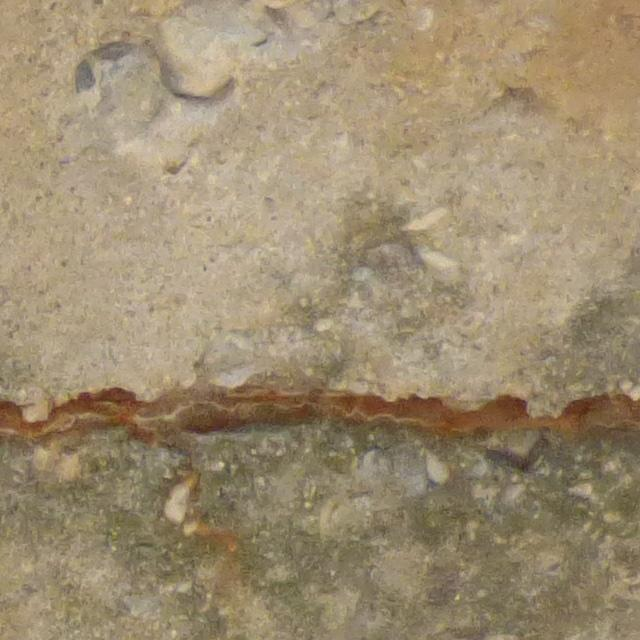Rust: (6, 389, 630, 450)
